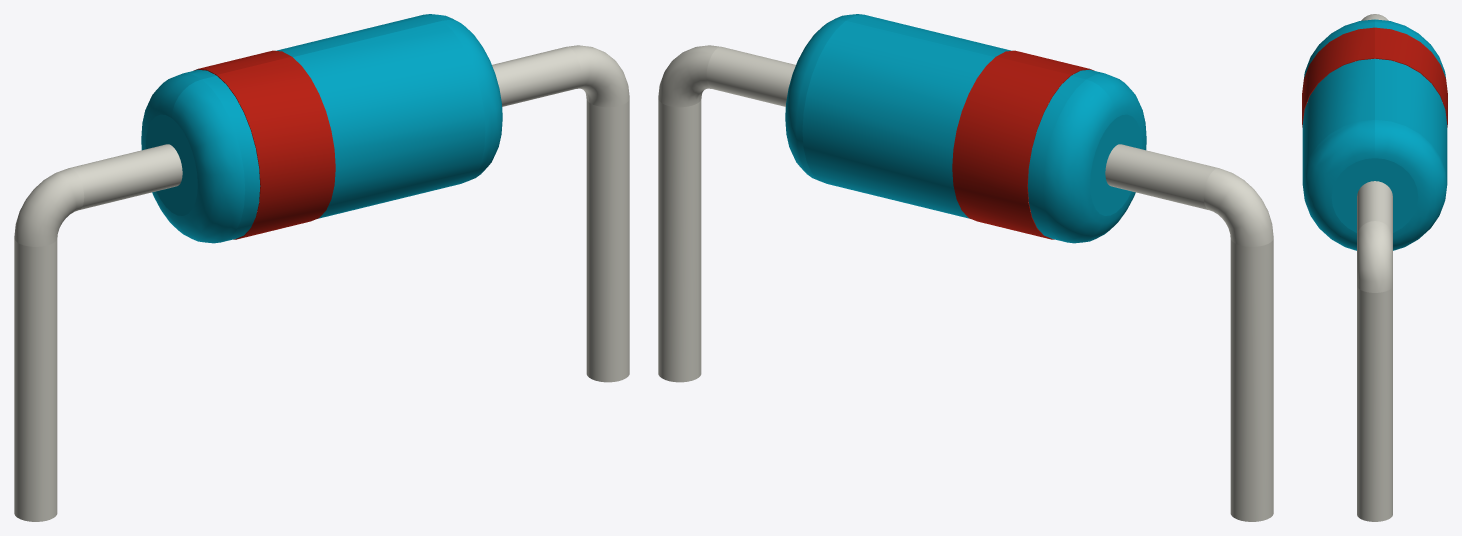
The model's file is kc-d_do-35_sod27_p7.62mm_horizontal.glb.
3 views of the same model, side by side, from view 1: azimuth 30°, elevation 25°; view 2: azimuth 150°, elevation 25°; view 3: azimuth 270°, elevation 25° (orthographic). The views are drawn at different scales.
Visible parts, largest first — view 1: 0_0.3333333333333333_0.5_0, 0.6666666666666666_0.6666666666666666_0.5833333333333334_0.8, 0.4166666666666667_0_0_0; view 2: 0_0.3333333333333333_0.5_0, 0.6666666666666666_0.6666666666666666_0.5833333333333334_0.8, 0.4166666666666667_0_0_0; view 3: 0_0.3333333333333333_0.5_0, 0.6666666666666666_0.6666666666666666_0.5833333333333334_0.8, 0.4166666666666667_0_0_0.
Boxes of the visible parts, x1=… form: 0_0.3333333333333333_0.5_0: x1=141, y1=14, x2=502, y2=243; 0.6666666666666666_0.6666666666666666_0.5833333333333334_0.8: x1=14, y1=45, x2=629, y2=521; 0.4166666666666667_0_0_0: x1=193, y1=50, x2=335, y2=239; 0_0.3333333333333333_0.5_0: x1=785, y1=14, x2=1146, y2=243; 0.6666666666666666_0.6666666666666666_0.5833333333333334_0.8: x1=658, y1=45, x2=1273, y2=521; 0.4166666666666667_0_0_0: x1=952, y1=50, x2=1094, y2=239; 0_0.3333333333333333_0.5_0: x1=1302, y1=19, x2=1447, y2=250; 0.6666666666666666_0.6666666666666666_0.5833333333333334_0.8: x1=1357, y1=14, x2=1392, y2=521; 0.4166666666666667_0_0_0: x1=1302, y1=27, x2=1447, y2=127.
Bounding box in the file's own units: 0.812 × 0.501 × 0.202.
